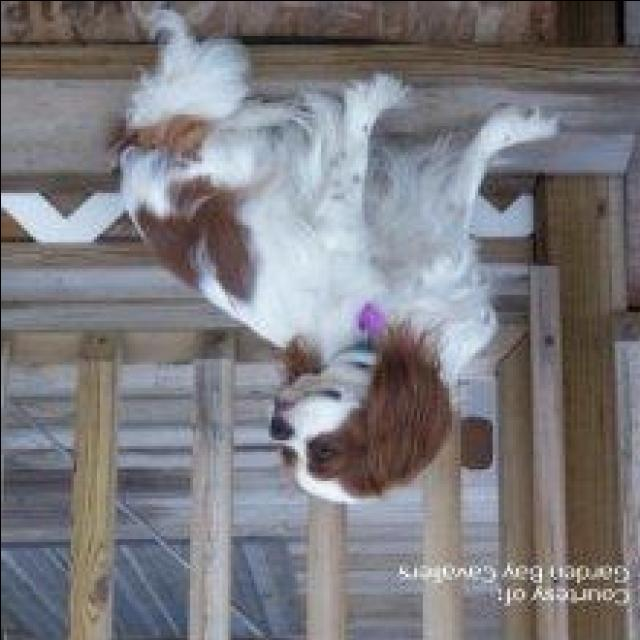blenheim_spaniel: (116, 38, 556, 500)
